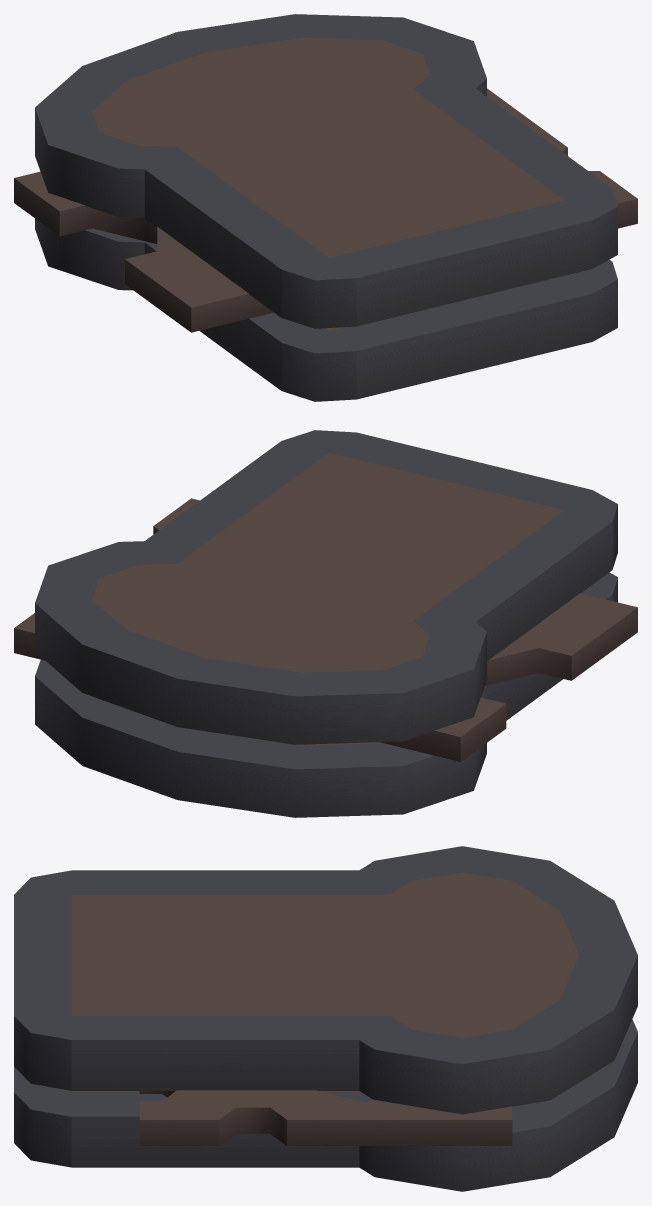
The model's file is Item_GrilledCheese.glb.
The picture shows the model from 3 angles, top to bottom: view 1: azimuth 30°, elevation 25°; view 2: azimuth 150°, elevation 25°; view 3: azimuth 270°, elevation 25°; orthographic projection. The views are drawn at different scales.
Visible parts, largest first — view 1: Burnt; view 2: Burnt; view 3: Burnt.
Part boxes in pixels (x1,y1,x2,y2): Burnt: [14, 14, 637, 401]; Burnt: [14, 430, 637, 817]; Burnt: [14, 846, 637, 1191].
Size of the model in its own units: 0.384 by 0.0997 by 0.4423.
Materials: 12 (12 with a texture image).
